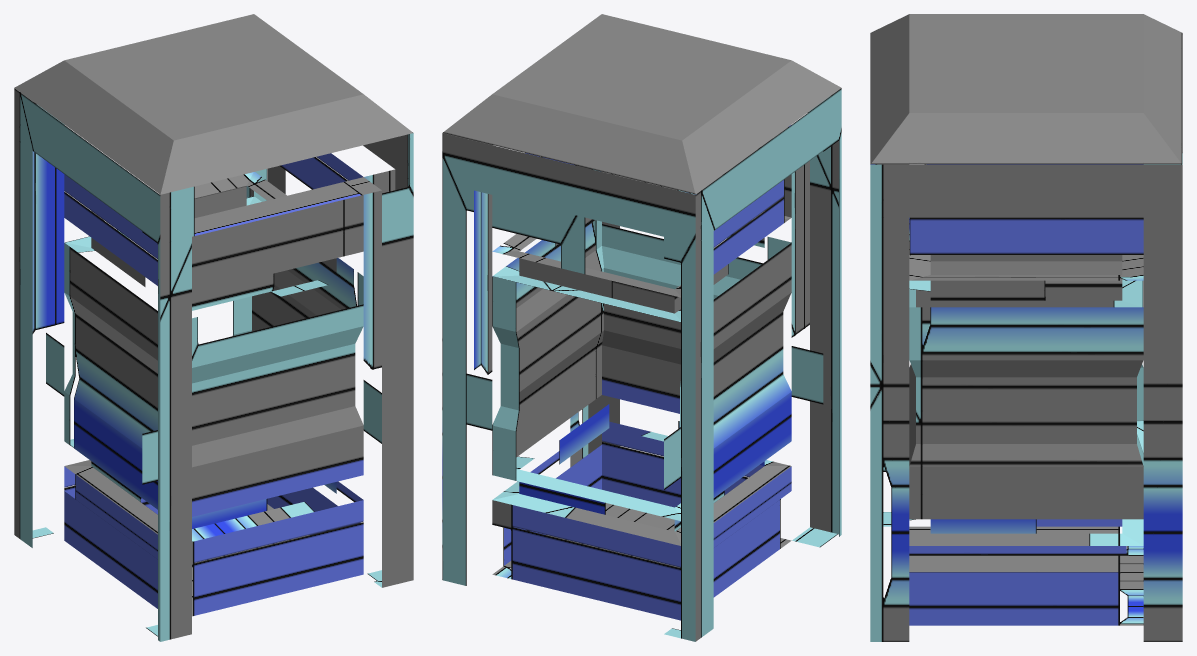
The model's file is tower01.obj.
3 views of the same model, side by side, from view 1: azimuth 30°, elevation 25°; view 2: azimuth 150°, elevation 25°; view 3: azimuth 270°, elevation 25° (orthographic). The views are drawn at different scales.
Visible parts, largest first — view 1: Cube; view 2: Cube; view 3: Cube.
Part boxes in pixels (x1,y1,x2,y2): Cube: (14, 14, 413, 641); Cube: (442, 14, 841, 641); Cube: (870, 14, 1182, 641).
Bounding box in the file's own units: 8 × 14.5 × 8.
